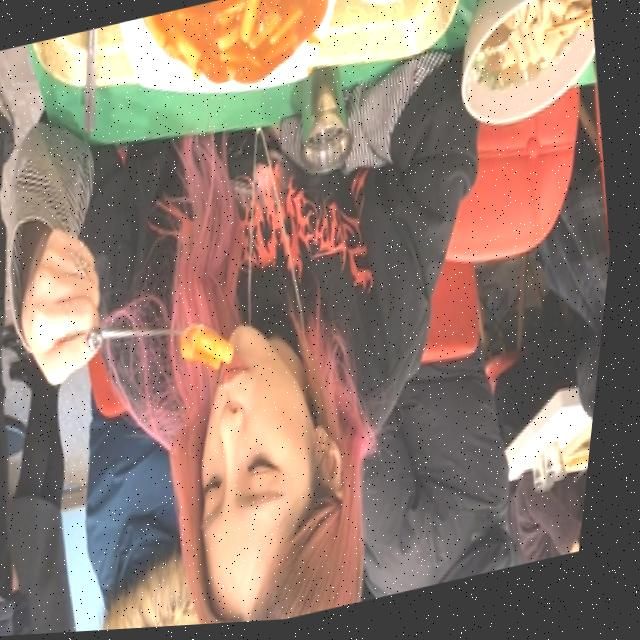eating-person: (0, 0, 584, 640)
